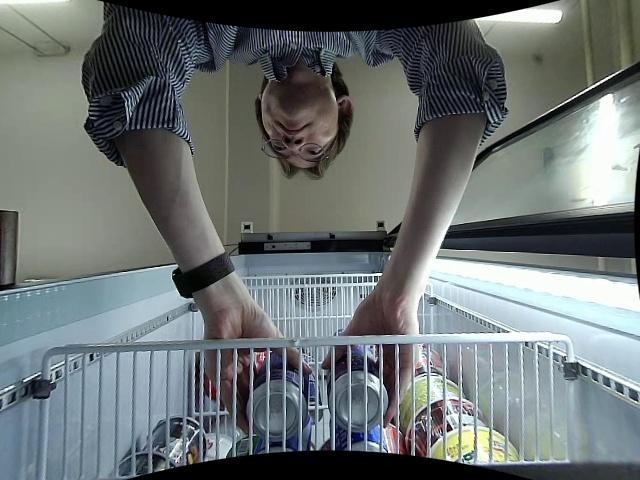00_hand: (199, 302, 314, 441), (318, 284, 425, 420)
14_welchsGrape: (325, 342, 394, 436), (239, 360, 309, 438)
